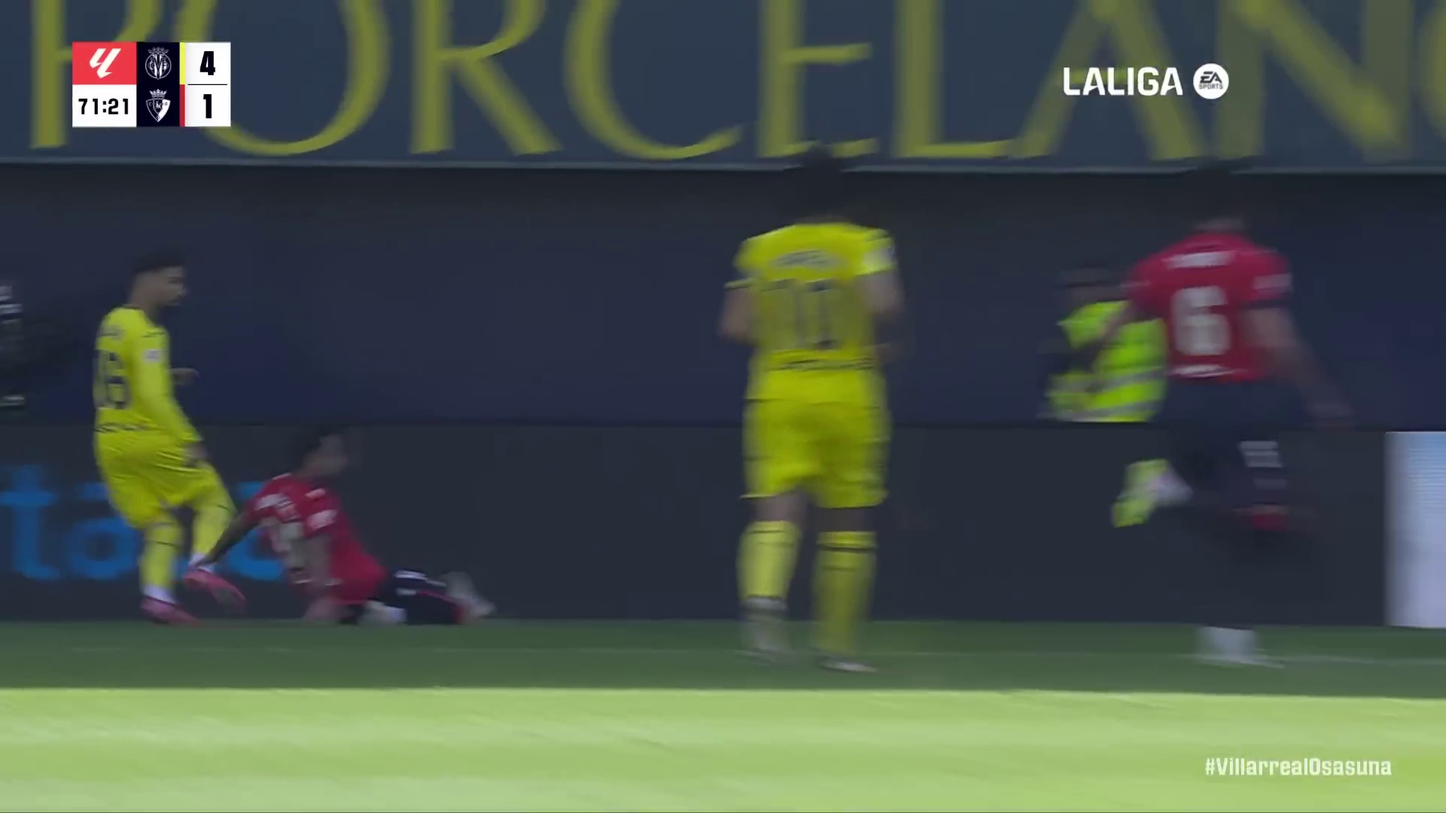player: (1059, 160, 1365, 684), (711, 143, 921, 673), (180, 415, 518, 633), (80, 245, 265, 628)
